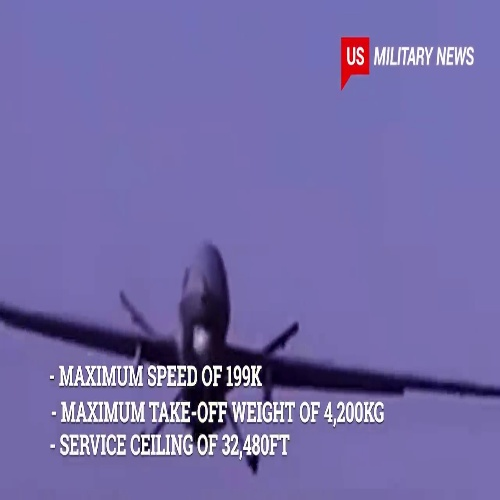uav: (3, 236, 500, 470)
